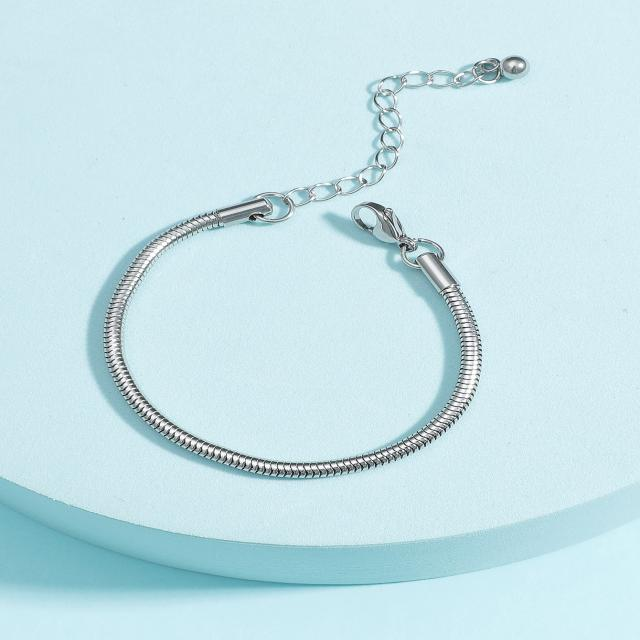bracelet: (61, 11, 625, 511)
